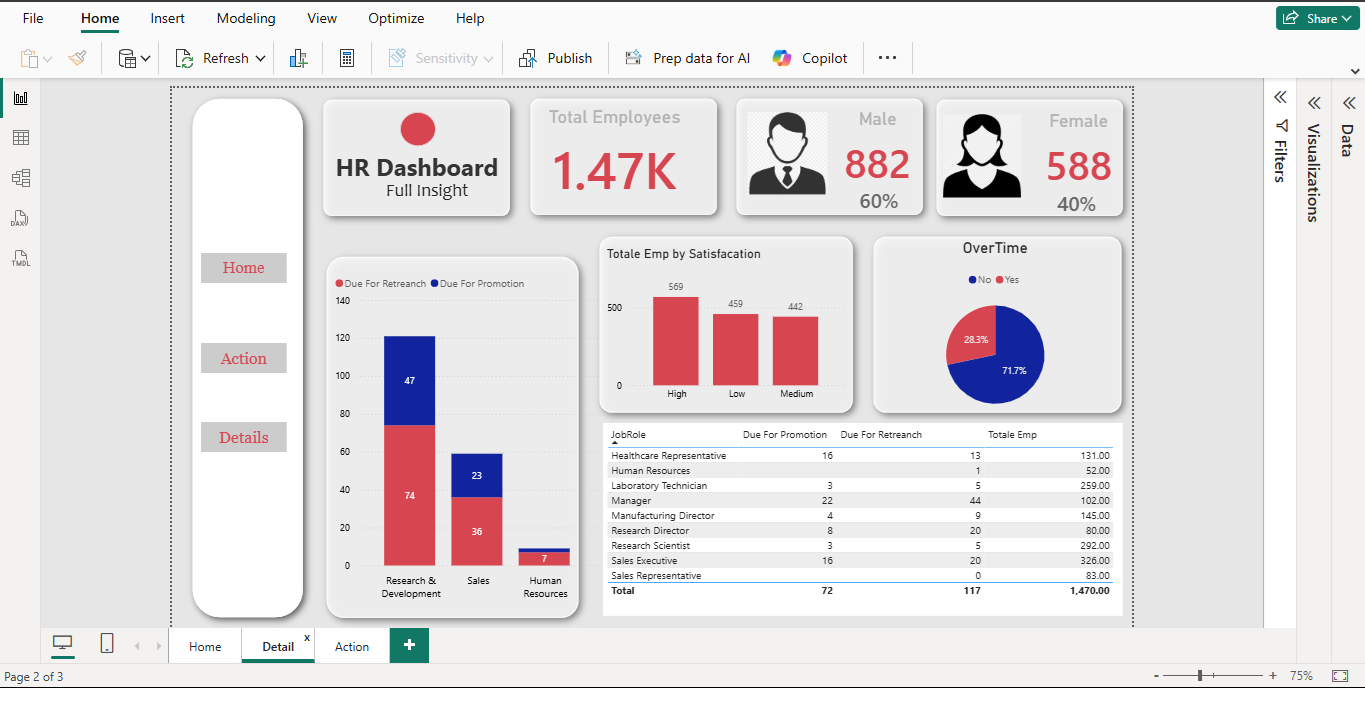

What the dashboard file says about the page in this screenshot:
{"tool":"powerbi","page":{"name":"Detail","canvas":[1280,720],"ordinal":1},"visuals":[{"type":"shape","box":[13.3,0,175.4,720],"z":0},{"type":"shape","box":[188.3,1.7,276.3,183.3],"z":1000},{"type":"shape","box":[463.3,0,276.3,183.3],"z":2000},{"type":"shape","box":[738.3,0,276.3,183.3],"z":3000},{"type":"shape","box":[1004.7,1.8,276.3,183.3],"z":4000},{"type":"shape","box":[303.3,31.7,47.8,45.6],"z":5000},{"type":"textbox","box":[211.7,76.7,228.9,54.4],"z":6000},{"type":"textbox","box":[230.4,116.3,218.9,43.3],"z":7000},{"type":"cardVisual","title":"Total Employees","fields":{"Data":["Table.Totale Emp"]},"box":[466.7,23.3,247.1,124.3],"z":8000},{"type":"cardVisual","title":"Male","fields":{"Data":["Table.Male"]},"box":[877.1,27.1,127.1,100],"z":9000},{"type":"cardVisual","title":"Total Employees","fields":{"Data":["Table.%Male"]},"box":[881.7,115,123.3,65],"z":10000},{"type":"cardVisual","title":"Female","fields":{"Data":["Table.Female"]},"box":[1145.7,30,127.1,100],"z":11000},{"type":"cardVisual","title":"Total Employees","fields":{"Data":["Table.%Female"]},"box":[1155,118.3,103.3,65],"z":12000},{"type":"image","box":[740,31.4,161.4,110],"z":13000},{"type":"image","box":[1028.6,31.4,104.3,117.1],"z":14000},{"type":"shape","box":[191.4,210,364.3,510],"z":15000},{"type":"columnChart","fields":{"Category":["HR Analytics Data.Department"],"Y":["Table.lay-off","Table.Due"]},"box":[211.4,240,362.9,450],"z":16000},{"type":"shape","box":[555.7,184.3,365.7,262.9],"z":17000},{"type":"columnChart","fields":{"Category":["HR Analytics Data.Satisfacation"],"Y":["Table.Totale Emp"]},"box":[574.3,210,327.1,215.7],"z":18000},{"type":"shape","box":[921.4,184.3,358.6,262.9],"z":19000},{"type":"pieChart","title":"OverTime","fields":{"Category":["HR Analytics Data.OverTime"],"Y":["Table.Totale Emp"]},"box":[941.4,201.4,312.9,245.7],"z":20000},{"type":"tableEx","fields":{"Values":["HR Analytics Data.JobRole","Table.Due For Promotion","Table.Due For Retreanch","Table.Totale Emp"]},"box":[574.3,447.1,692.9,257.1],"z":21000},{"type":"actionButton","box":[38.6,220,114.3,40],"z":22000},{"type":"actionButton","box":[38.6,340,114.3,40],"z":23000},{"type":"actionButton","box":[38.6,445.7,114.3,40],"z":24000}]}

Visuals, with their boxes on the page's 1280x720 design canvas (x1, y1, x2, y2). These are canvas units, not pixel positions in the 1365x701 screenshot, which may show the page scaled, cropped or inside an application window:
shape: (13,0,189,720)
shape: (188,2,465,185)
shape: (463,0,740,183)
shape: (738,0,1015,183)
shape: (1005,2,1281,185)
shape: (303,32,351,77)
textbox: (212,77,441,131)
textbox: (230,116,449,160)
"Total Employees" cardVisual: (467,23,714,148)
"Male" cardVisual: (877,27,1004,127)
"Total Employees" cardVisual: (882,115,1005,180)
"Female" cardVisual: (1146,30,1273,130)
"Total Employees" cardVisual: (1155,118,1258,183)
image: (740,31,901,141)
image: (1029,31,1133,148)
shape: (191,210,556,720)
columnChart - HR Analytics Data.Department x Table.lay-off: (211,240,574,690)
shape: (556,184,921,447)
columnChart - HR Analytics Data.Satisfacation x Table.Totale Emp: (574,210,901,426)
shape: (921,184,1280,447)
"OverTime" pieChart: (941,201,1254,447)
tableEx - HR Analytics Data.JobRole x Table.Due For Promotion: (574,447,1267,704)
actionButton: (39,220,153,260)
actionButton: (39,340,153,380)
actionButton: (39,446,153,486)
